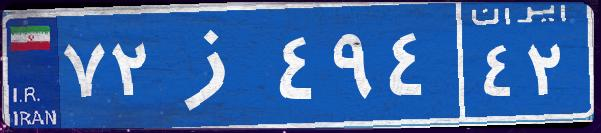2: (110, 28, 158, 105), (525, 38, 570, 115)
4: (385, 28, 445, 110), (273, 28, 330, 110), (475, 38, 525, 113)
7: (57, 26, 110, 107)
9: (330, 28, 385, 110)
ز: (158, 15, 273, 115)
